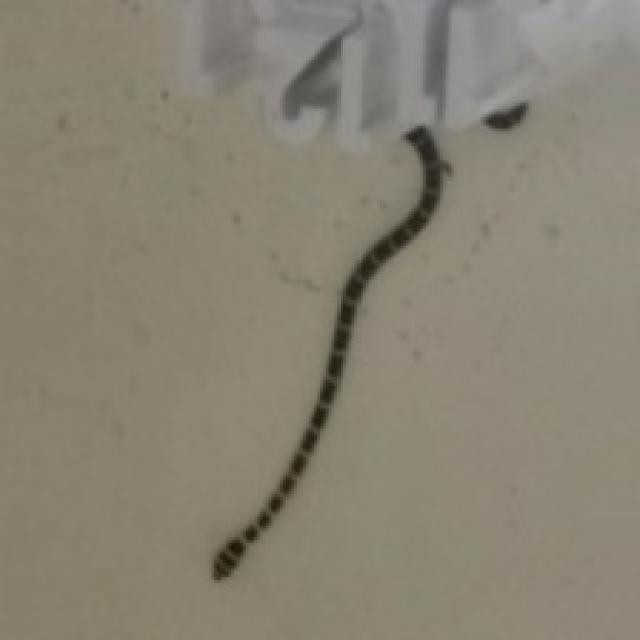paradise tree snake: (211, 126, 440, 577)
